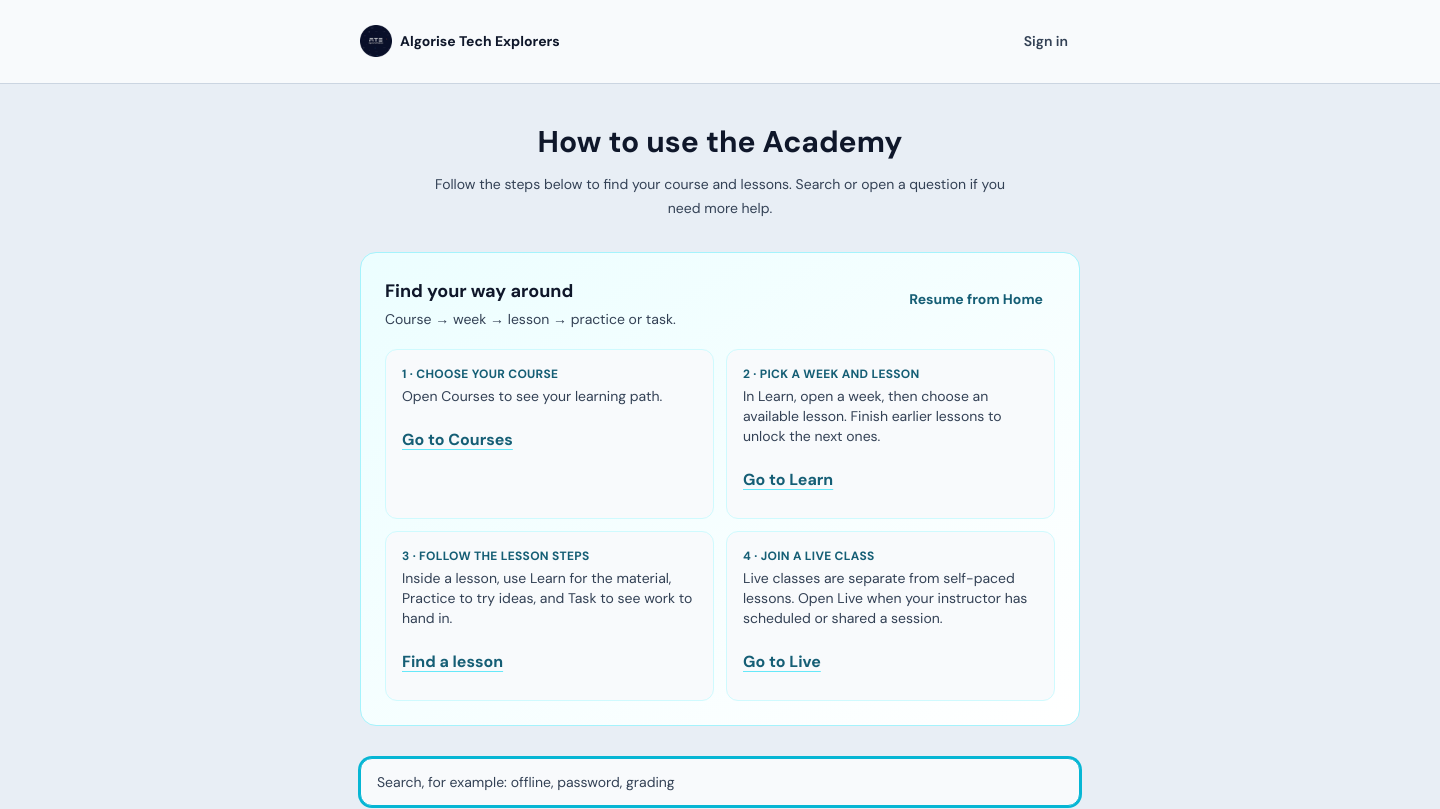
Test: AcademyFaq › offers a way to reach a person when the search finds nothing
In the search field named "search the help topics": (720, 782) [360,758,1080,806], type "zzzznotathing"
(page scrolled)
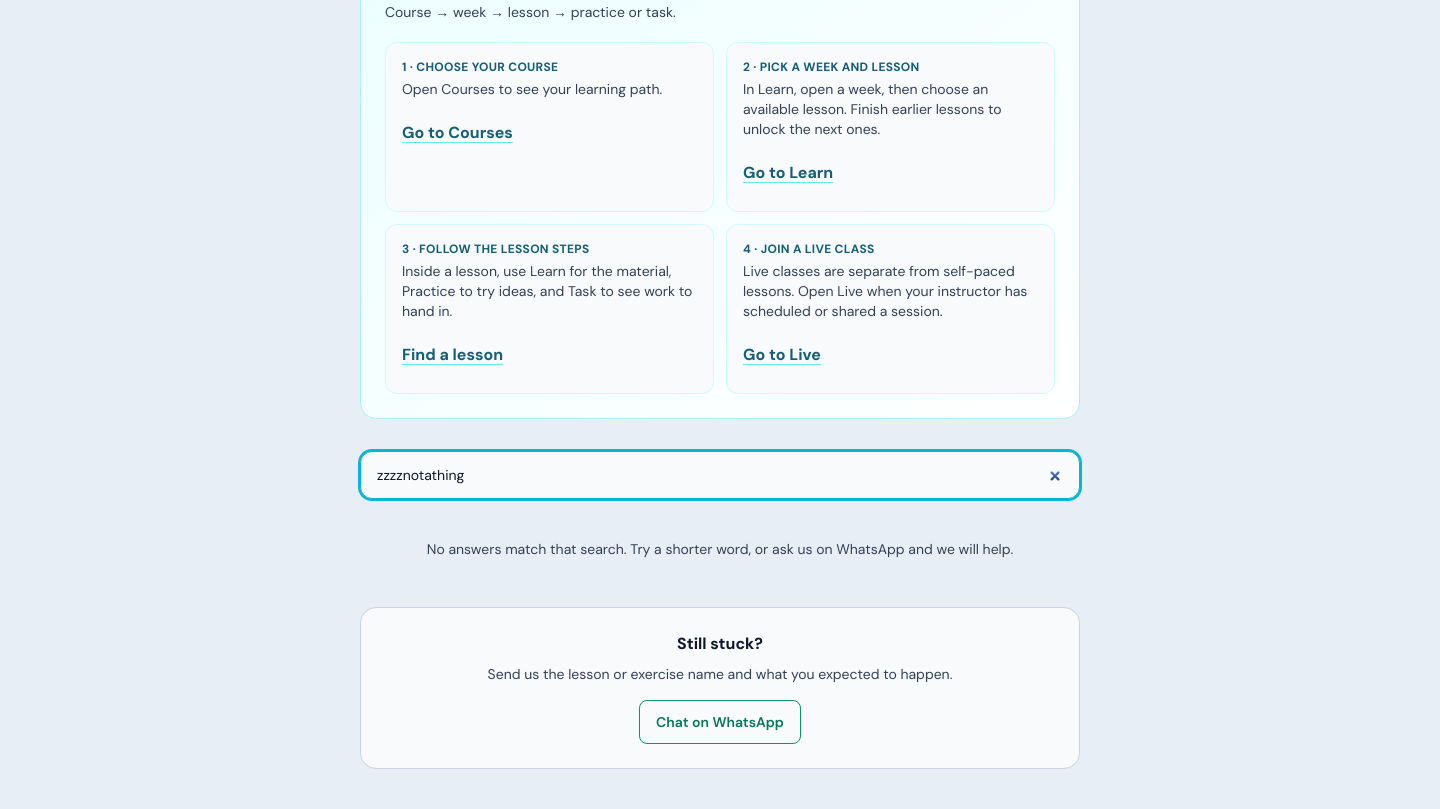
Expected: the text "No answers match that search" is shown, [427,540,1013,558]
